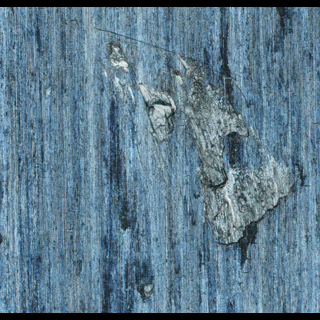d: (99, 39, 307, 267), (132, 268, 156, 302)
